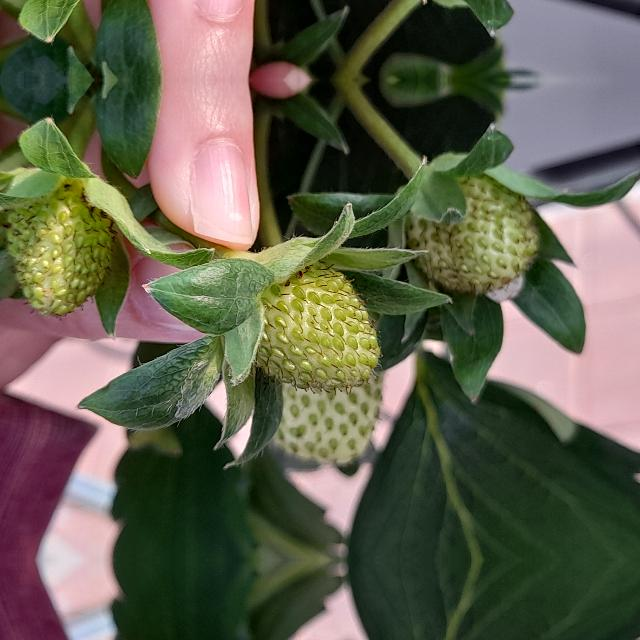Health_25: (247, 259, 383, 395), (406, 165, 542, 297), (4, 180, 118, 320)
